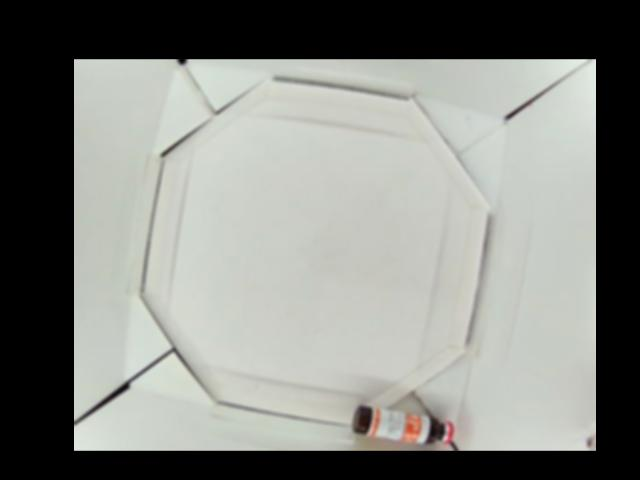Medicine: (352, 401, 455, 445)
